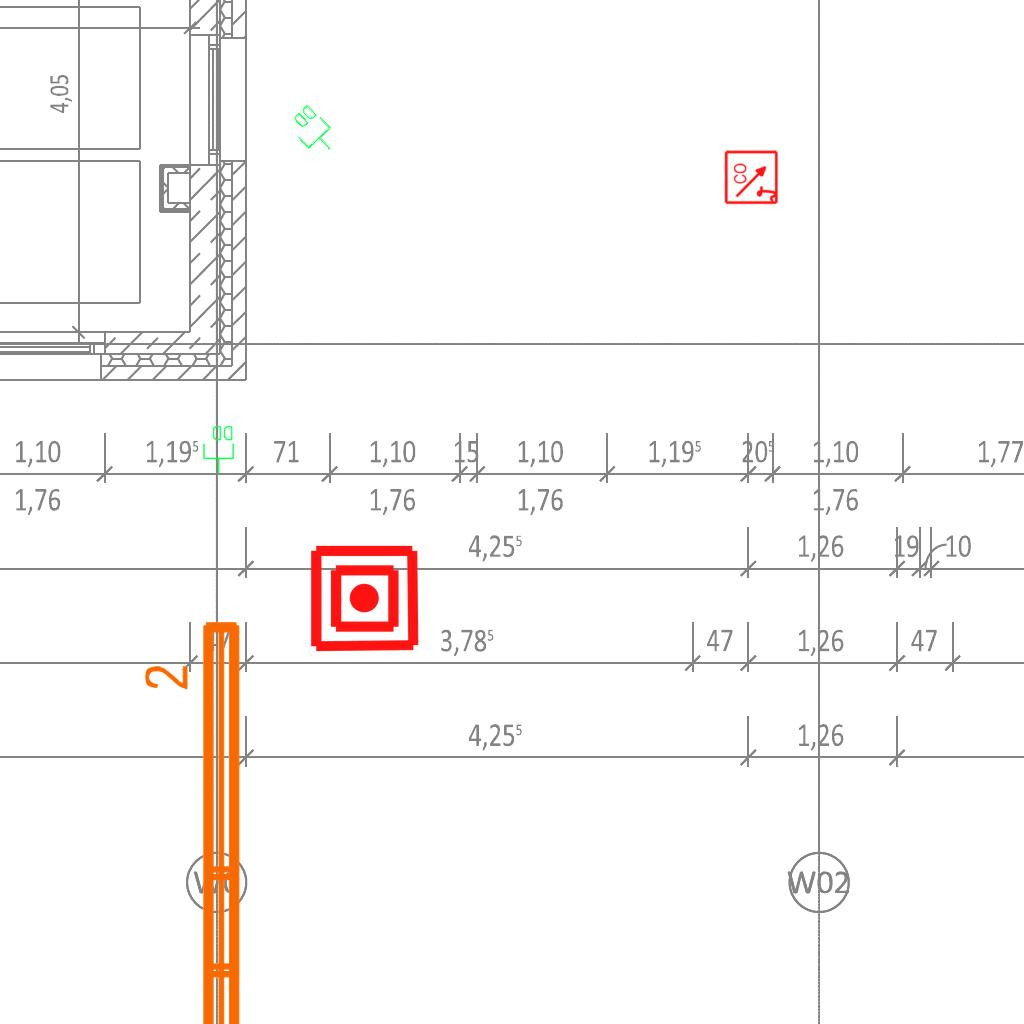Ambulanz_Pendelleuchte_LED: (140, 613, 252, 1024)
Datenanschluss_zweifach: (283, 100, 344, 162), (202, 424, 236, 475)
NAM-Nichtautomatischer_Melder: (308, 542, 421, 655)
ROA_Rauchmelder_optisch_mit_Signalgeber_(Sockelsirene): (724, 149, 780, 205)
